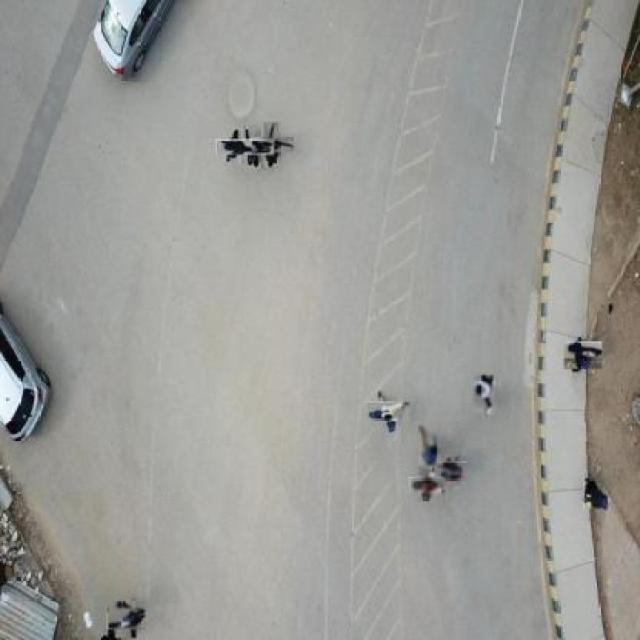Person: (566, 339, 602, 373), (372, 396, 406, 429), (473, 374, 496, 418), (257, 130, 288, 161), (237, 132, 268, 163), (110, 604, 142, 634), (418, 424, 438, 468), (583, 477, 608, 511), (414, 472, 441, 499), (221, 134, 248, 161), (440, 459, 465, 483)
